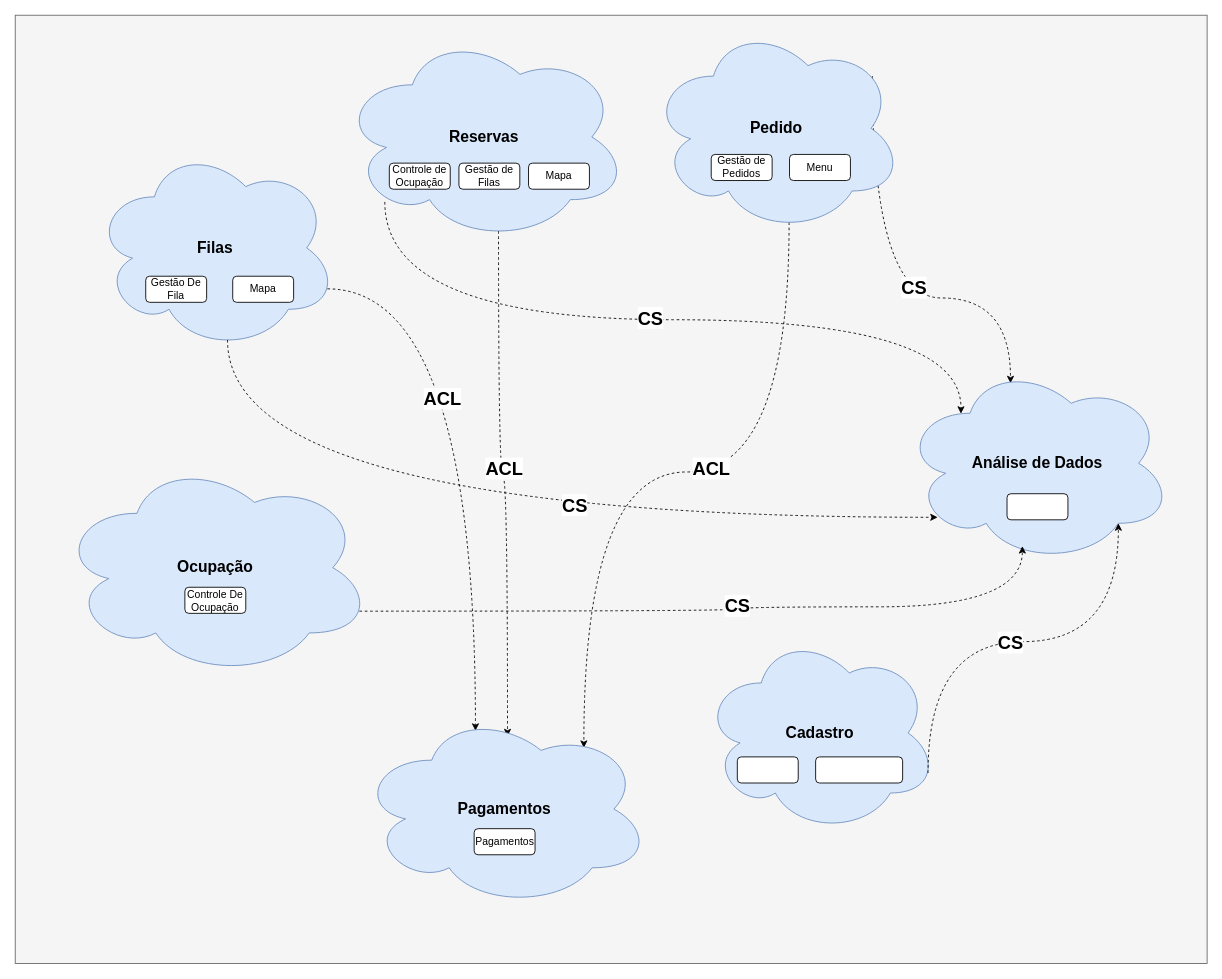
Some shapes in this 1222 by 979 pixel diagram are drawn without their labels. The centre of each missing label's shape, as x and y in pixels:
"Analise De Dados" belongs at point 1037,506.
"Cadastro de estabelecimento" belongs at point 859,769.
"Cadastro de Usuário" belongs at point 767,769.
